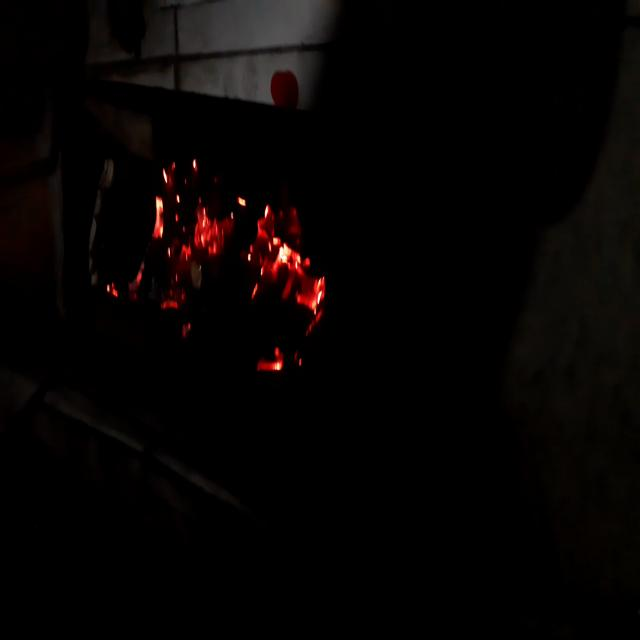Fire: (104, 128, 332, 402)
